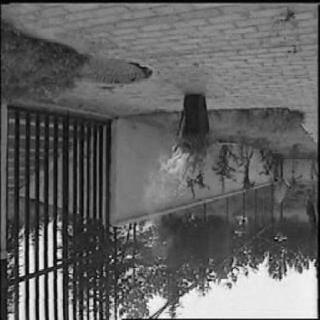Fire: (150, 142, 206, 206)
